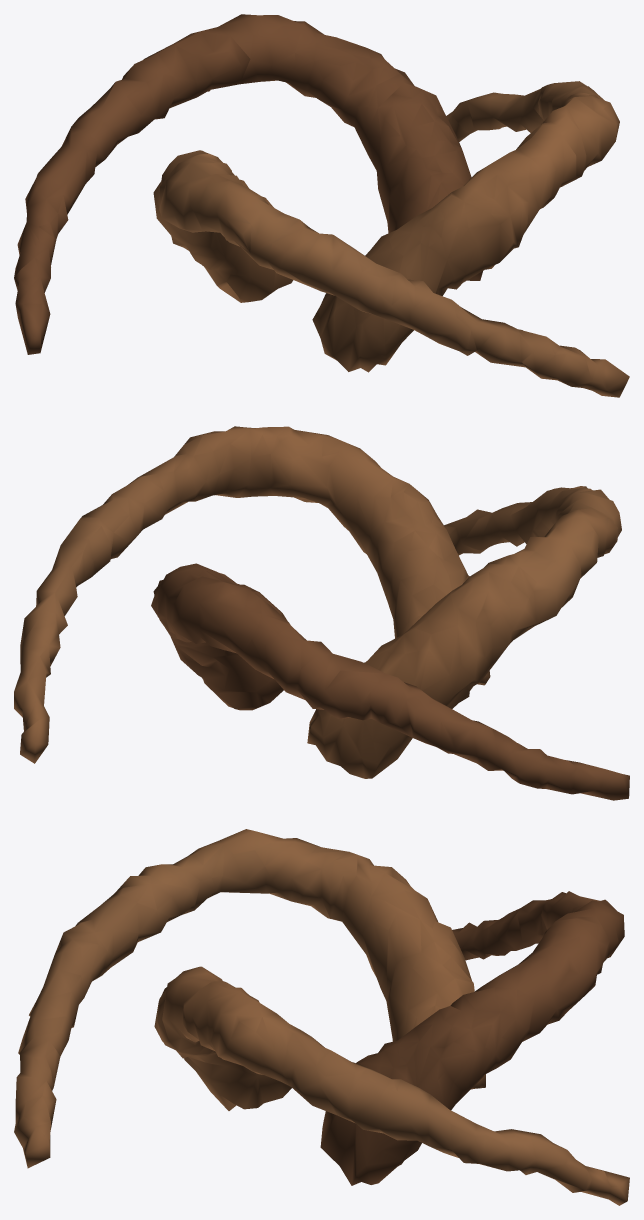
The model's file is glade_root_coil_lod1.glb.
3 renders of one model, top to bottom at view 1: azimuth 30°, elevation 25°; view 2: azimuth 150°, elevation 25°; view 3: azimuth 270°, elevation 25°, orthographic.
Visible parts, largest first — view 1: glade_root_coil.001; view 2: glade_root_coil.001; view 3: glade_root_coil.001.
Boxes of the visible parts, box(x1,y1,x2,y2) form: glade_root_coil.001: box(14, 14, 629, 397); glade_root_coil.001: box(14, 426, 629, 800); glade_root_coil.001: box(14, 829, 629, 1205).
Size of the model in its own units: 13.35 by 4.96 by 12.7.
